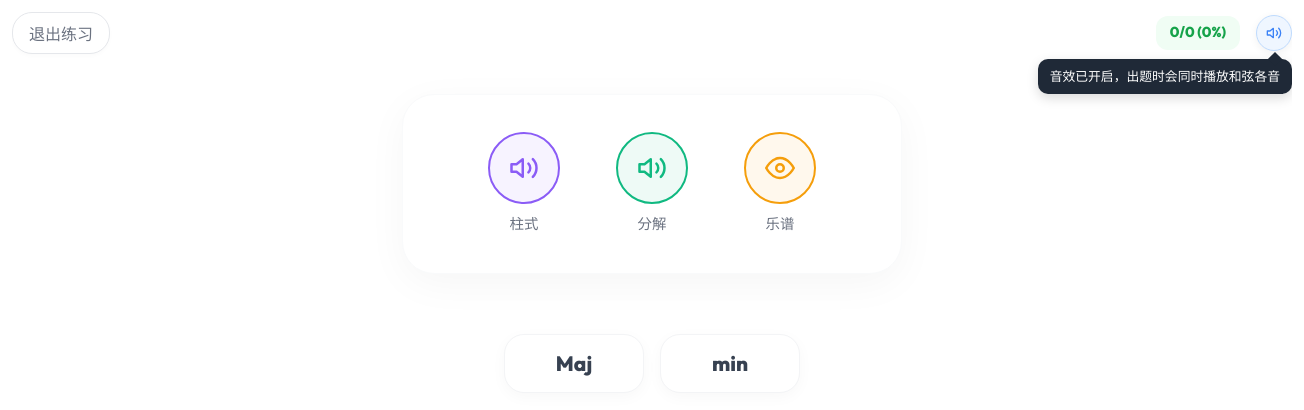
Test: ChordPractice speakers-only mode (default, no score) › reveals the notation when the answer speaker is clicked, and hides it again
Click the button named "查看乐谱". click: [780, 168]
box: [744,132,816,204]
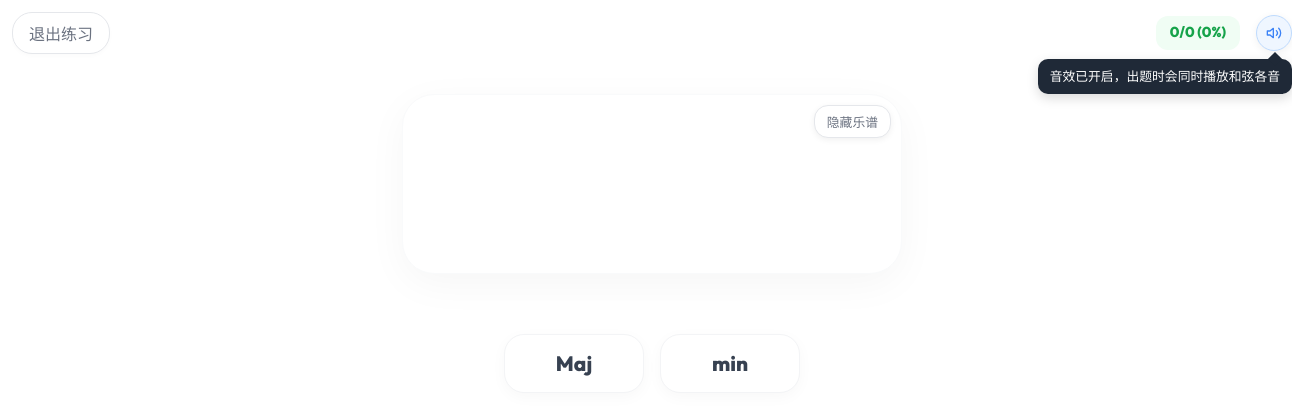
Expected: the element with test id "chord-speakers" is gone
# The "隐藏乐谱" button returns to the speakers view.
Click the button with aria-label "隐藏乐谱，返回听音练习". click: [852, 122]
box: [814,105,891,138]
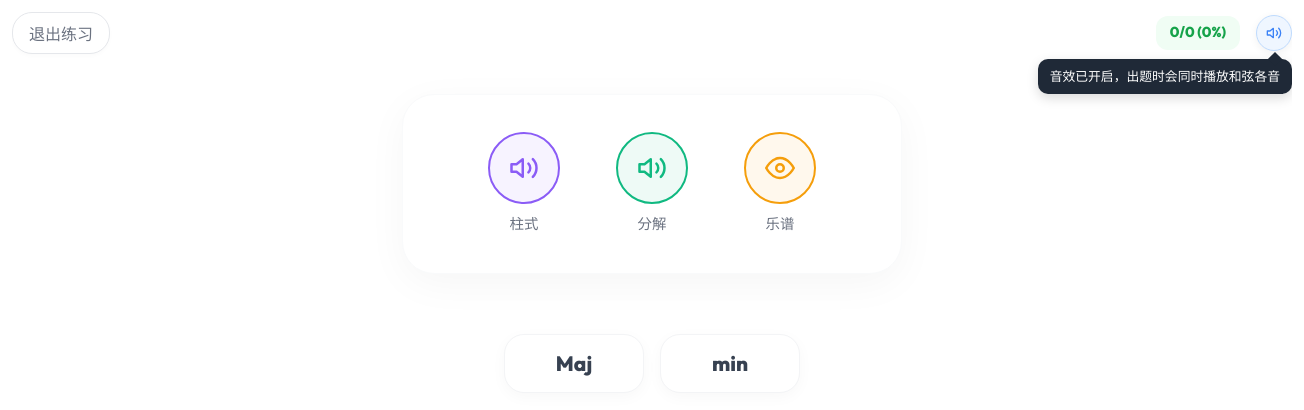
Expected: the element with test id "chord-speakers" is shown, [488,132,816,233]
